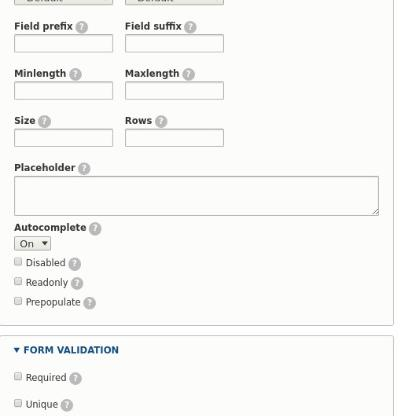checkbox: (11, 256, 23, 267), (12, 370, 23, 382), (13, 296, 24, 305), (12, 397, 21, 407), (13, 277, 22, 286)
checkbox_with_label: (9, 396, 72, 415), (11, 295, 80, 308), (8, 255, 68, 268), (9, 370, 65, 382), (11, 277, 68, 287)
field: (13, 175, 382, 218), (12, 80, 115, 101), (125, 128, 226, 149), (12, 34, 114, 54), (123, 81, 224, 101), (13, 128, 113, 148), (124, 34, 226, 53), (12, 235, 54, 252)
field_with_label: (12, 162, 383, 219), (9, 21, 116, 56), (123, 114, 227, 150), (122, 20, 228, 55), (12, 115, 115, 150), (10, 68, 116, 102), (123, 68, 225, 102)
